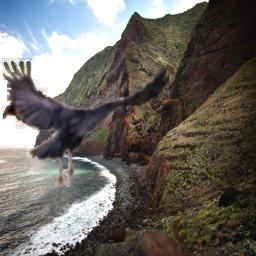Crow: (2, 58, 169, 188)
